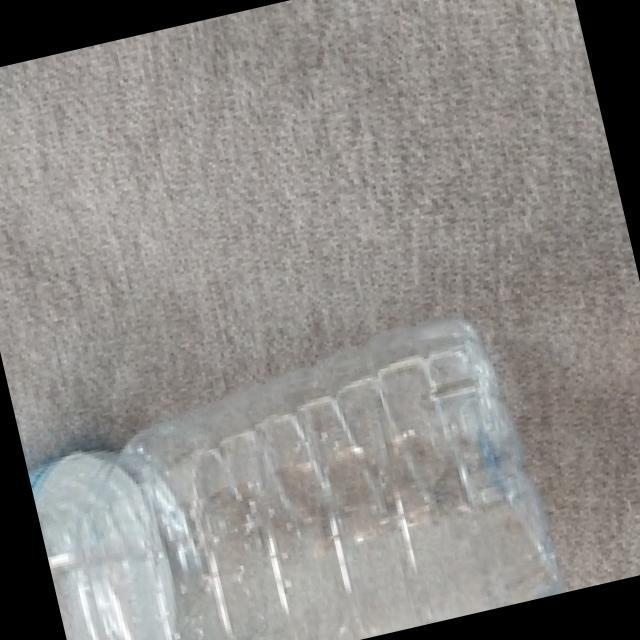good: (19, 308, 563, 640)
